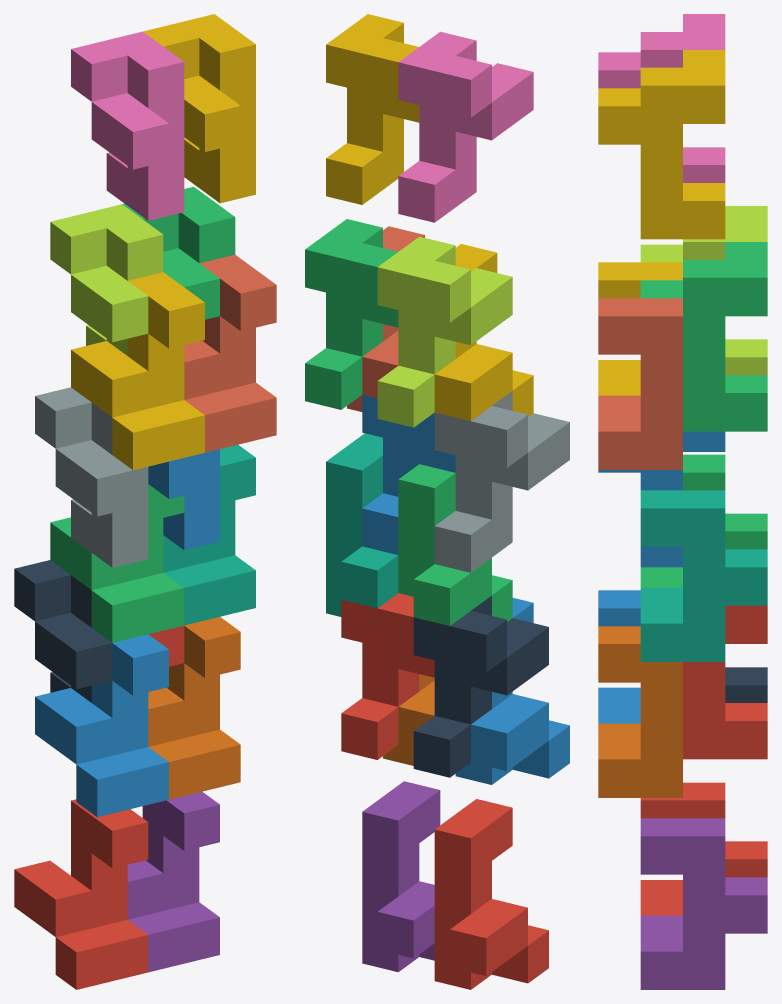
The model's file is tiling.obj.
The picture shows the model from 3 angles, left to right: view 1: azimuth 30°, elevation 25°; view 2: azimuth 150°, elevation 25°; view 3: azimuth 270°, elevation 25°; orthographic projection. The views are drawn at different scales.
Visible parts, largest first — view 1: copy_1_domain_1, copy_2_domain_4, copy_1_domain_4, copy_1_domain_2, copy_2_domain_8, copy_2_domain_2, copy_1_domain_8, copy_1_domain_5, copy_1_domain_6, copy_2_domain_3, copy_1_domain_3, copy_2_domain_1 (+4 smaller); view 2: copy_2_domain_4, copy_2_domain_3, copy_1_domain_1, copy_2_domain_2, copy_2_domain_1, copy_1_domain_5, copy_2_domain_8, copy_2_domain_7, copy_1_domain_3, copy_2_domain_5, copy_1_domain_7, copy_1_domain_2 (+4 smaller); view 3: copy_1_domain_5, copy_1_domain_7, copy_2_domain_8, copy_2_domain_7, copy_1_domain_8, copy_1_domain_6, copy_2_domain_5, copy_2_domain_4, copy_1_domain_1, copy_2_domain_3, copy_1_domain_3, copy_1_domain_4 (+3 smaller).
Part boxes in pixels (x1=…): copy_1_domain_1: x1=14, y1=799, x2=148, y2=989; copy_2_domain_4: x1=71, y1=31, x2=184, y2=220; copy_1_domain_4: x1=71, y1=272, x2=204, y2=470; copy_1_domain_2: x1=35, y1=634, x2=168, y2=817; copy_2_domain_8: x1=143, y1=14, x2=255, y2=203; copy_2_domain_2: x1=35, y1=387, x2=148, y2=567; copy_1_domain_8: x1=184, y1=254, x2=276, y2=452; copy_1_domain_5: x1=127, y1=791, x2=219, y2=972; copy_1_domain_6: x1=148, y1=617, x2=240, y2=799; copy_2_domain_3: x1=50, y1=204, x2=163, y2=355; copy_1_domain_3: x1=50, y1=484, x2=184, y2=642; copy_2_domain_1: x1=14, y1=560, x2=112, y2=702; copy_2_domain_4: x1=398, y1=31, x2=533, y2=222; copy_2_domain_3: x1=377, y1=236, x2=512, y2=427; copy_1_domain_1: x1=434, y1=799, x2=548, y2=989; copy_2_domain_2: x1=434, y1=391, x2=569, y2=572; copy_2_domain_1: x1=413, y1=595, x2=548, y2=777; copy_1_domain_5: x1=362, y1=781, x2=440, y2=972; copy_2_domain_8: x1=326, y1=14, x2=419, y2=204; copy_2_domain_7: x1=305, y1=219, x2=398, y2=409; copy_1_domain_3: x1=398, y1=464, x2=512, y2=625; copy_2_domain_5: x1=341, y1=593, x2=434, y2=759; copy_1_domain_7: x1=326, y1=433, x2=398, y2=616; copy_1_domain_2: x1=455, y1=598, x2=569, y2=784; copy_1_domain_5: x1=640, y1=818, x2=767, y2=989; copy_1_domain_7: x1=640, y1=490, x2=767, y2=661; copy_2_domain_8: x1=598, y1=50, x2=725, y2=239; copy_2_domain_7: x1=640, y1=242, x2=767, y2=431; copy_1_domain_8: x1=598, y1=298, x2=682, y2=469; copy_1_domain_6: x1=598, y1=626, x2=682, y2=797; copy_2_domain_5: x1=683, y1=605, x2=767, y2=759; copy_2_domain_4: x1=598, y1=14, x2=725, y2=182; copy_1_domain_1: x1=640, y1=782, x2=767, y2=915; copy_2_domain_3: x1=640, y1=206, x2=767, y2=375; copy_1_domain_3: x1=640, y1=454, x2=767, y2=587; copy_1_domain_4: x1=598, y1=262, x2=682, y2=395.
Size of the model in its own units: 5 by 24 by 4.
